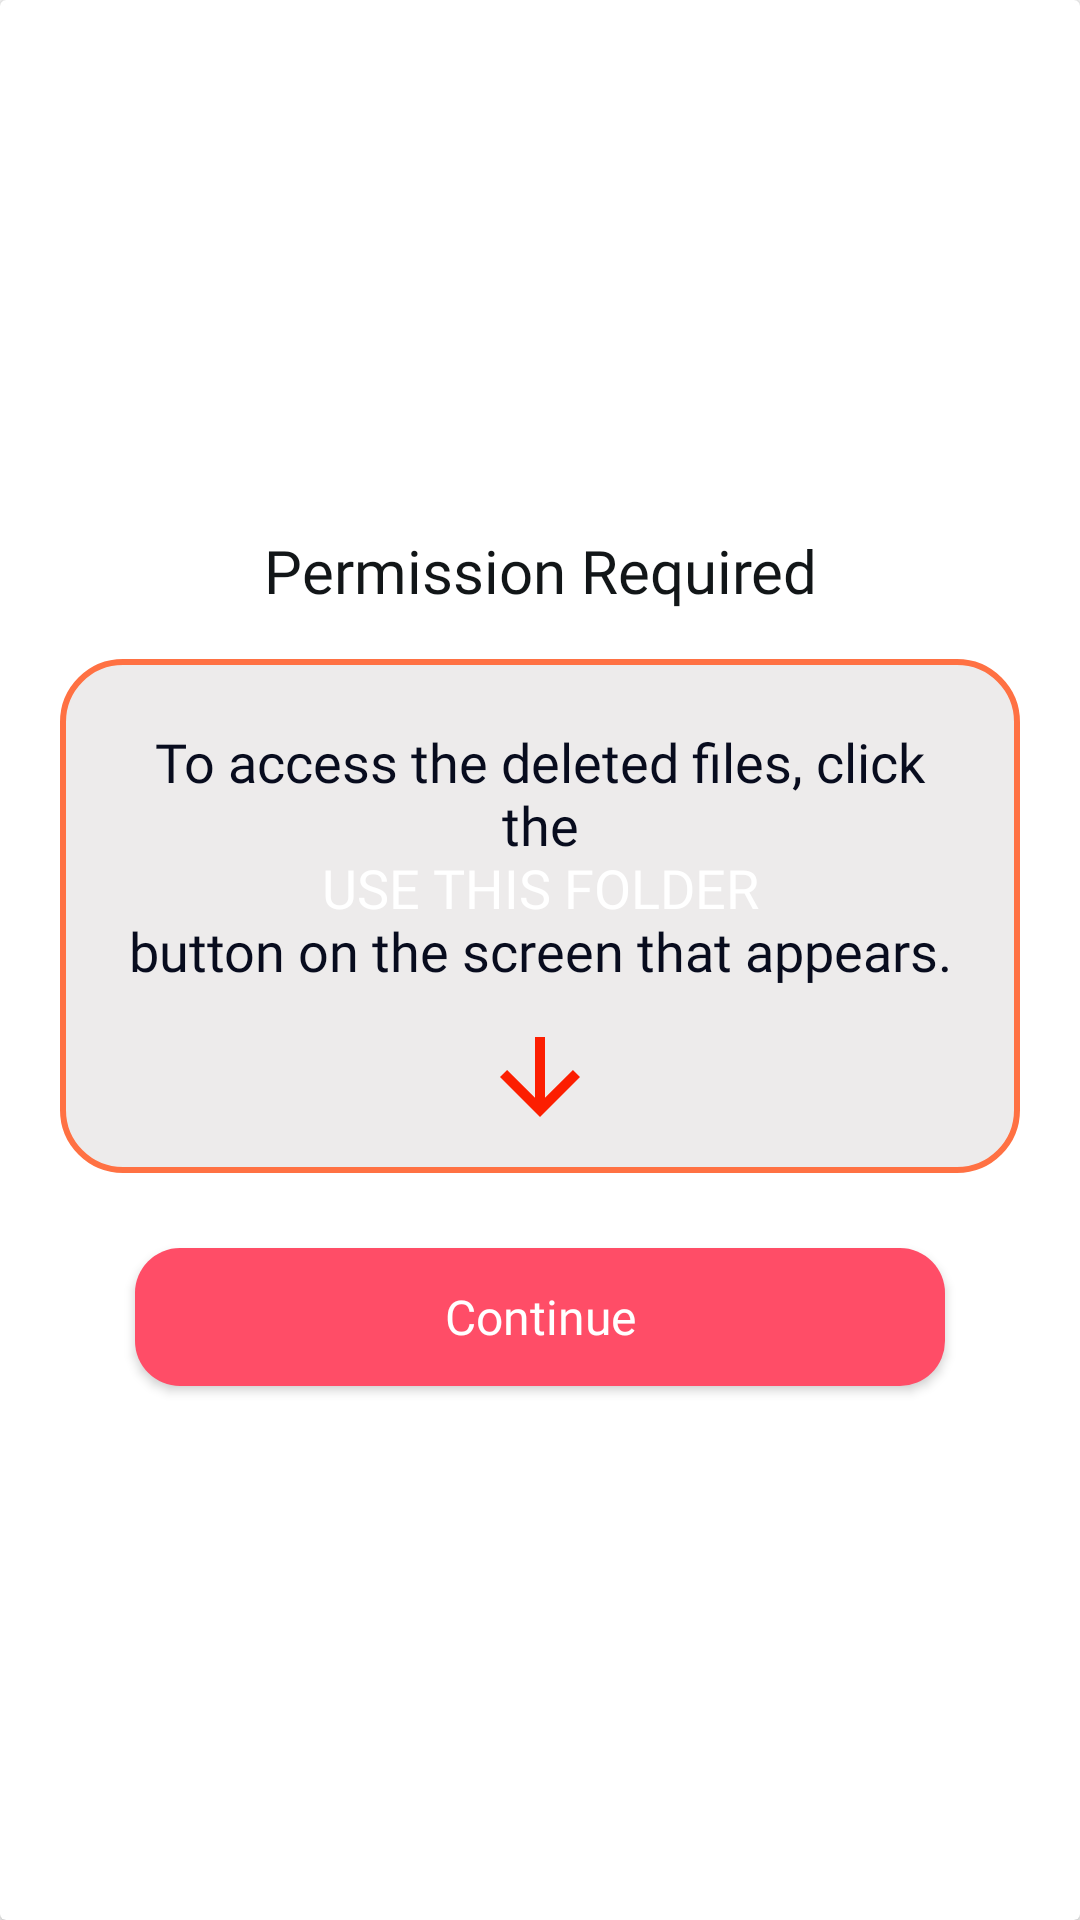

Point at icon controls on the screen. Image size 1080x1920, points as point (x, y).
arrow down: point (540, 1077)
